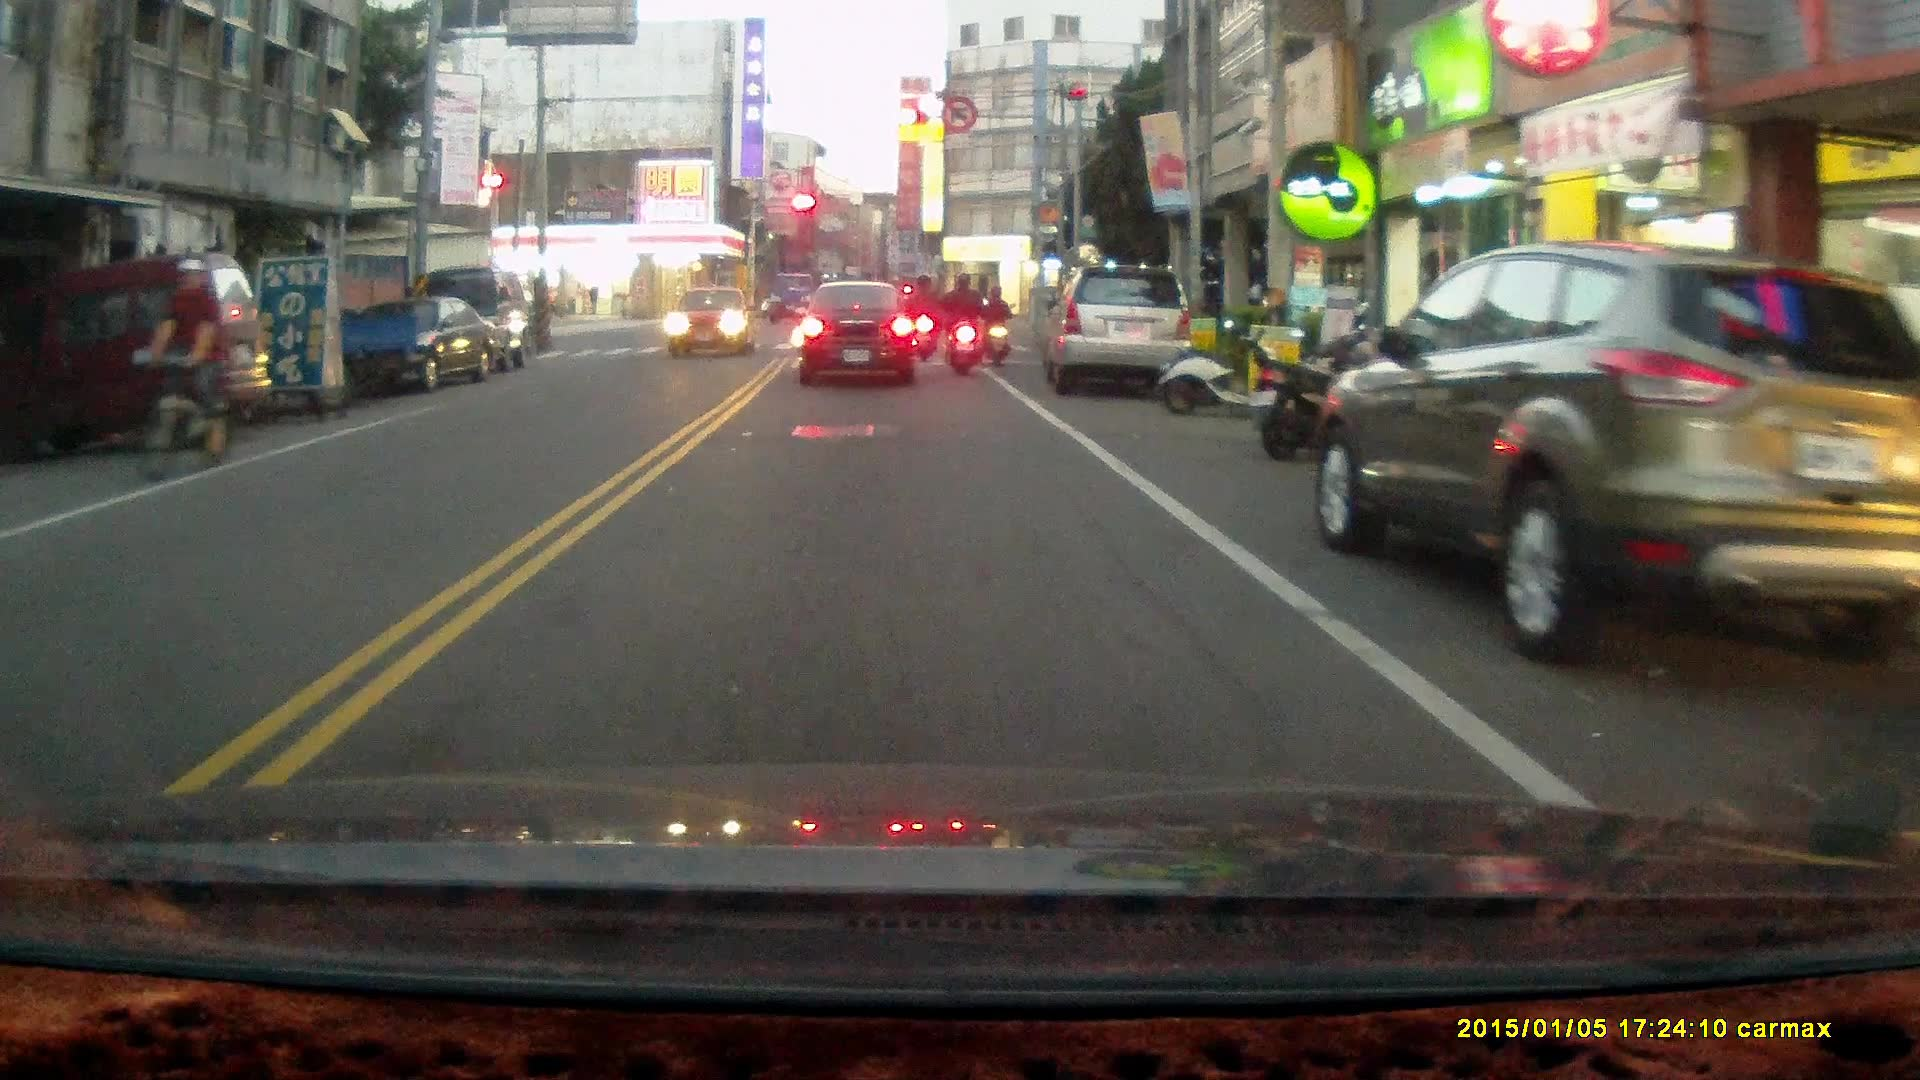rider: (133, 256, 236, 487), (940, 271, 988, 377), (904, 273, 940, 365), (980, 282, 1011, 367)
vehicle: (1321, 236, 1920, 663), (1, 257, 277, 458), (1041, 263, 1197, 403), (331, 295, 506, 396), (803, 280, 926, 390), (418, 263, 529, 375), (668, 284, 757, 358)
